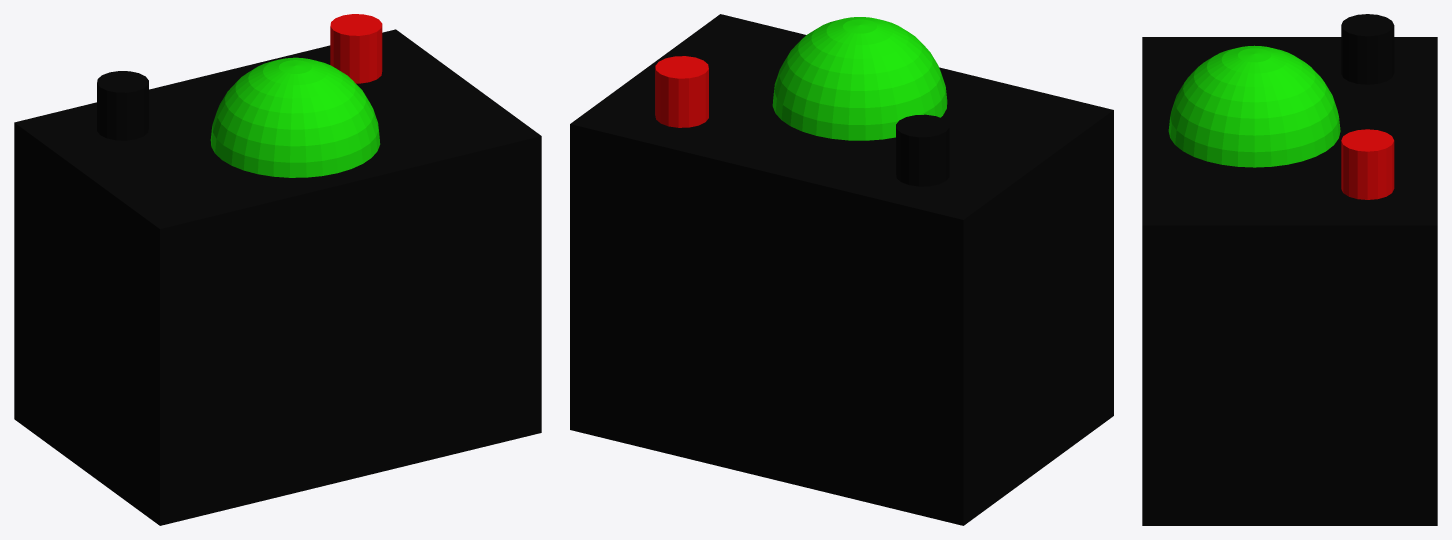
File: Battery.glb
3 views of the same model, side by side, from view 1: azimuth 30°, elevation 25°; view 2: azimuth 150°, elevation 25°; view 3: azimuth 270°, elevation 25° (orthographic). The views are drawn at different scales.
Parts seen in each view (by area): view 1: Battery; view 2: Battery; view 3: Battery.
Part boxes in pixels (x1,y1,x2,y2): Battery: [14, 14, 541, 525]; Battery: [570, 14, 1113, 525]; Battery: [1142, 14, 1437, 525].
Bounding box in the file's own units: 2 × 1.87 × 1.32.
4 materials, 1 textured.
